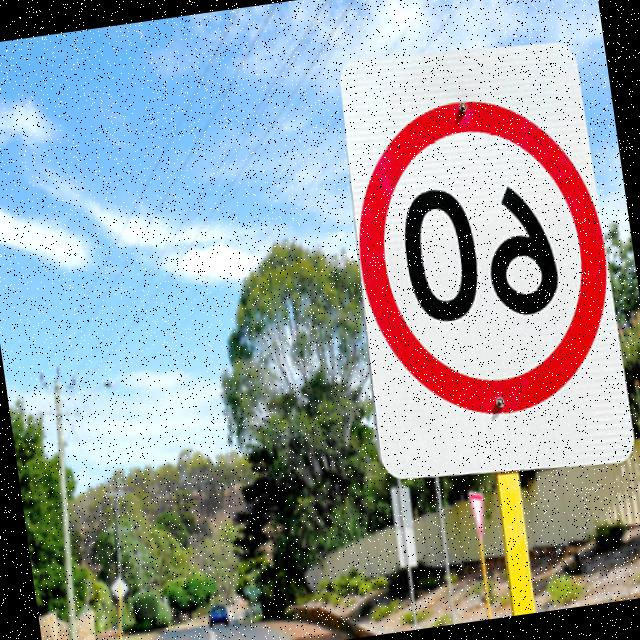speed_limit_60: (336, 78, 628, 434)
